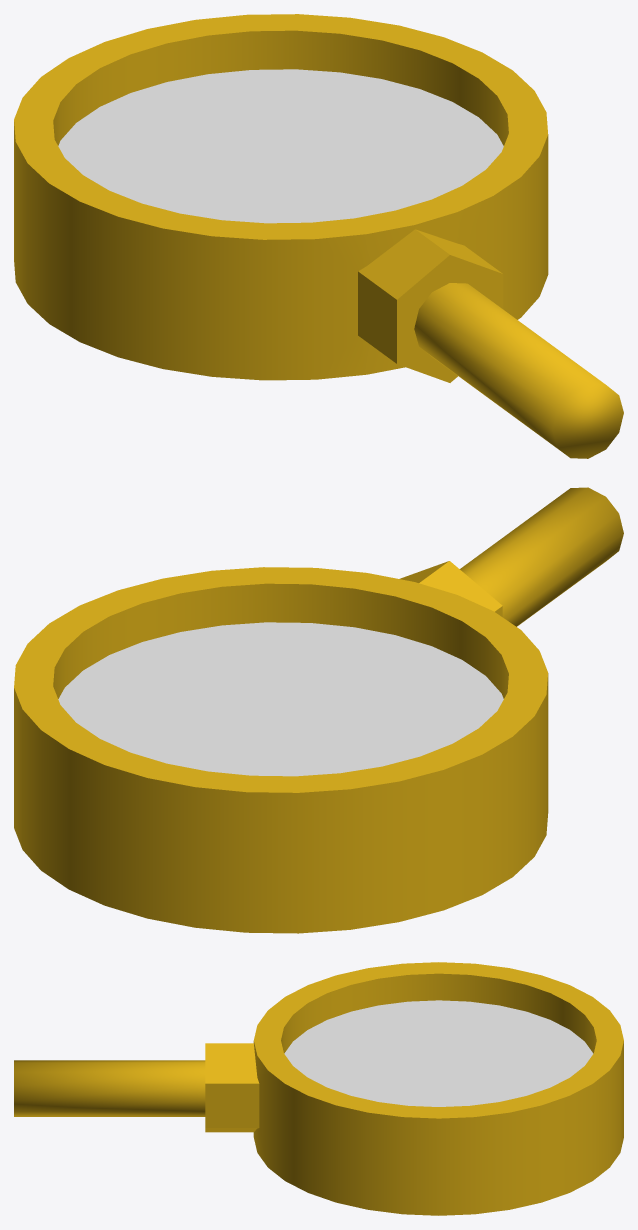
The model's file is Pipe Gauge 2 Electric boogaloo.fbx.
3 renders of one model, top to bottom at view 1: azimuth 30°, elevation 25°; view 2: azimuth 150°, elevation 25°; view 3: azimuth 270°, elevation 25°, orthographic. The views are drawn at different scales.
Parts seen in each view (by area): view 1: Gauge, Dial thing; view 2: Gauge, Dial thing; view 3: Gauge, Dial thing.
Boxes of the visible parts, <box> form: Gauge: <box>14,14,623,458</box>; Dial thing: <box>178,85,310,168</box>; Gauge: <box>14,487,623,933</box>; Dial thing: <box>189,696,310,771</box>; Gauge: <box>14,962,623,1215</box>; Dial thing: <box>423,1054,569,1067</box>.
Size of the model in its own units: 200 by 57.96 by 330.
